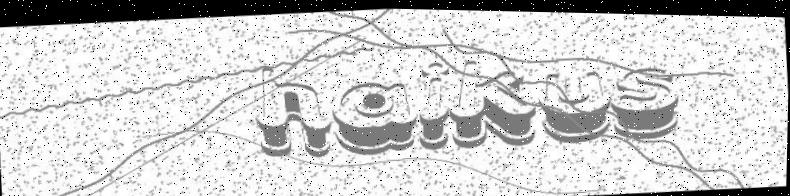a: (329, 77, 420, 156)
h: (252, 61, 334, 160)
i: (415, 59, 453, 149)
k: (448, 54, 540, 148)
s: (608, 63, 682, 140)
u: (537, 66, 615, 144)
